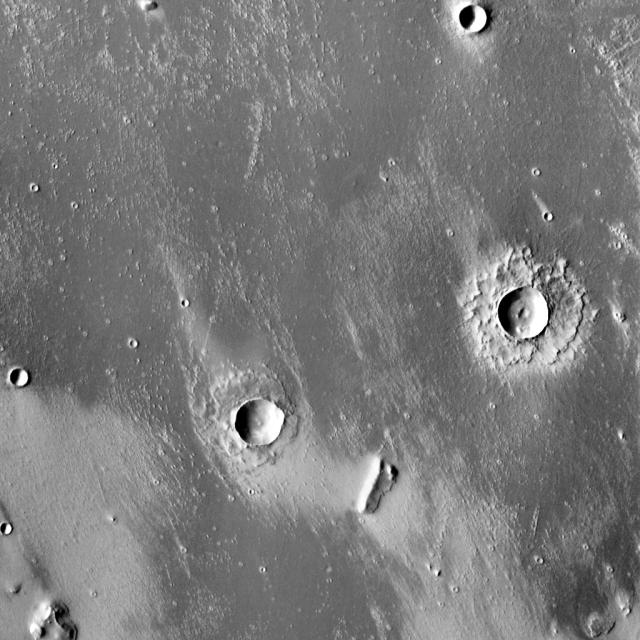crater: (501, 289, 552, 340), (236, 399, 284, 448), (461, 7, 488, 34), (12, 372, 30, 390), (3, 526, 14, 537), (522, 247, 532, 256), (545, 214, 553, 222), (129, 341, 137, 348), (181, 300, 188, 307), (624, 609, 631, 616)
